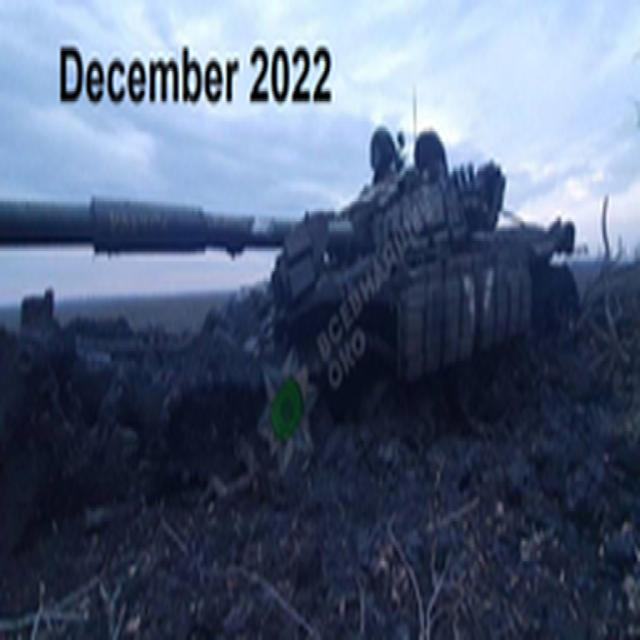TANK: (0, 118, 585, 429)
